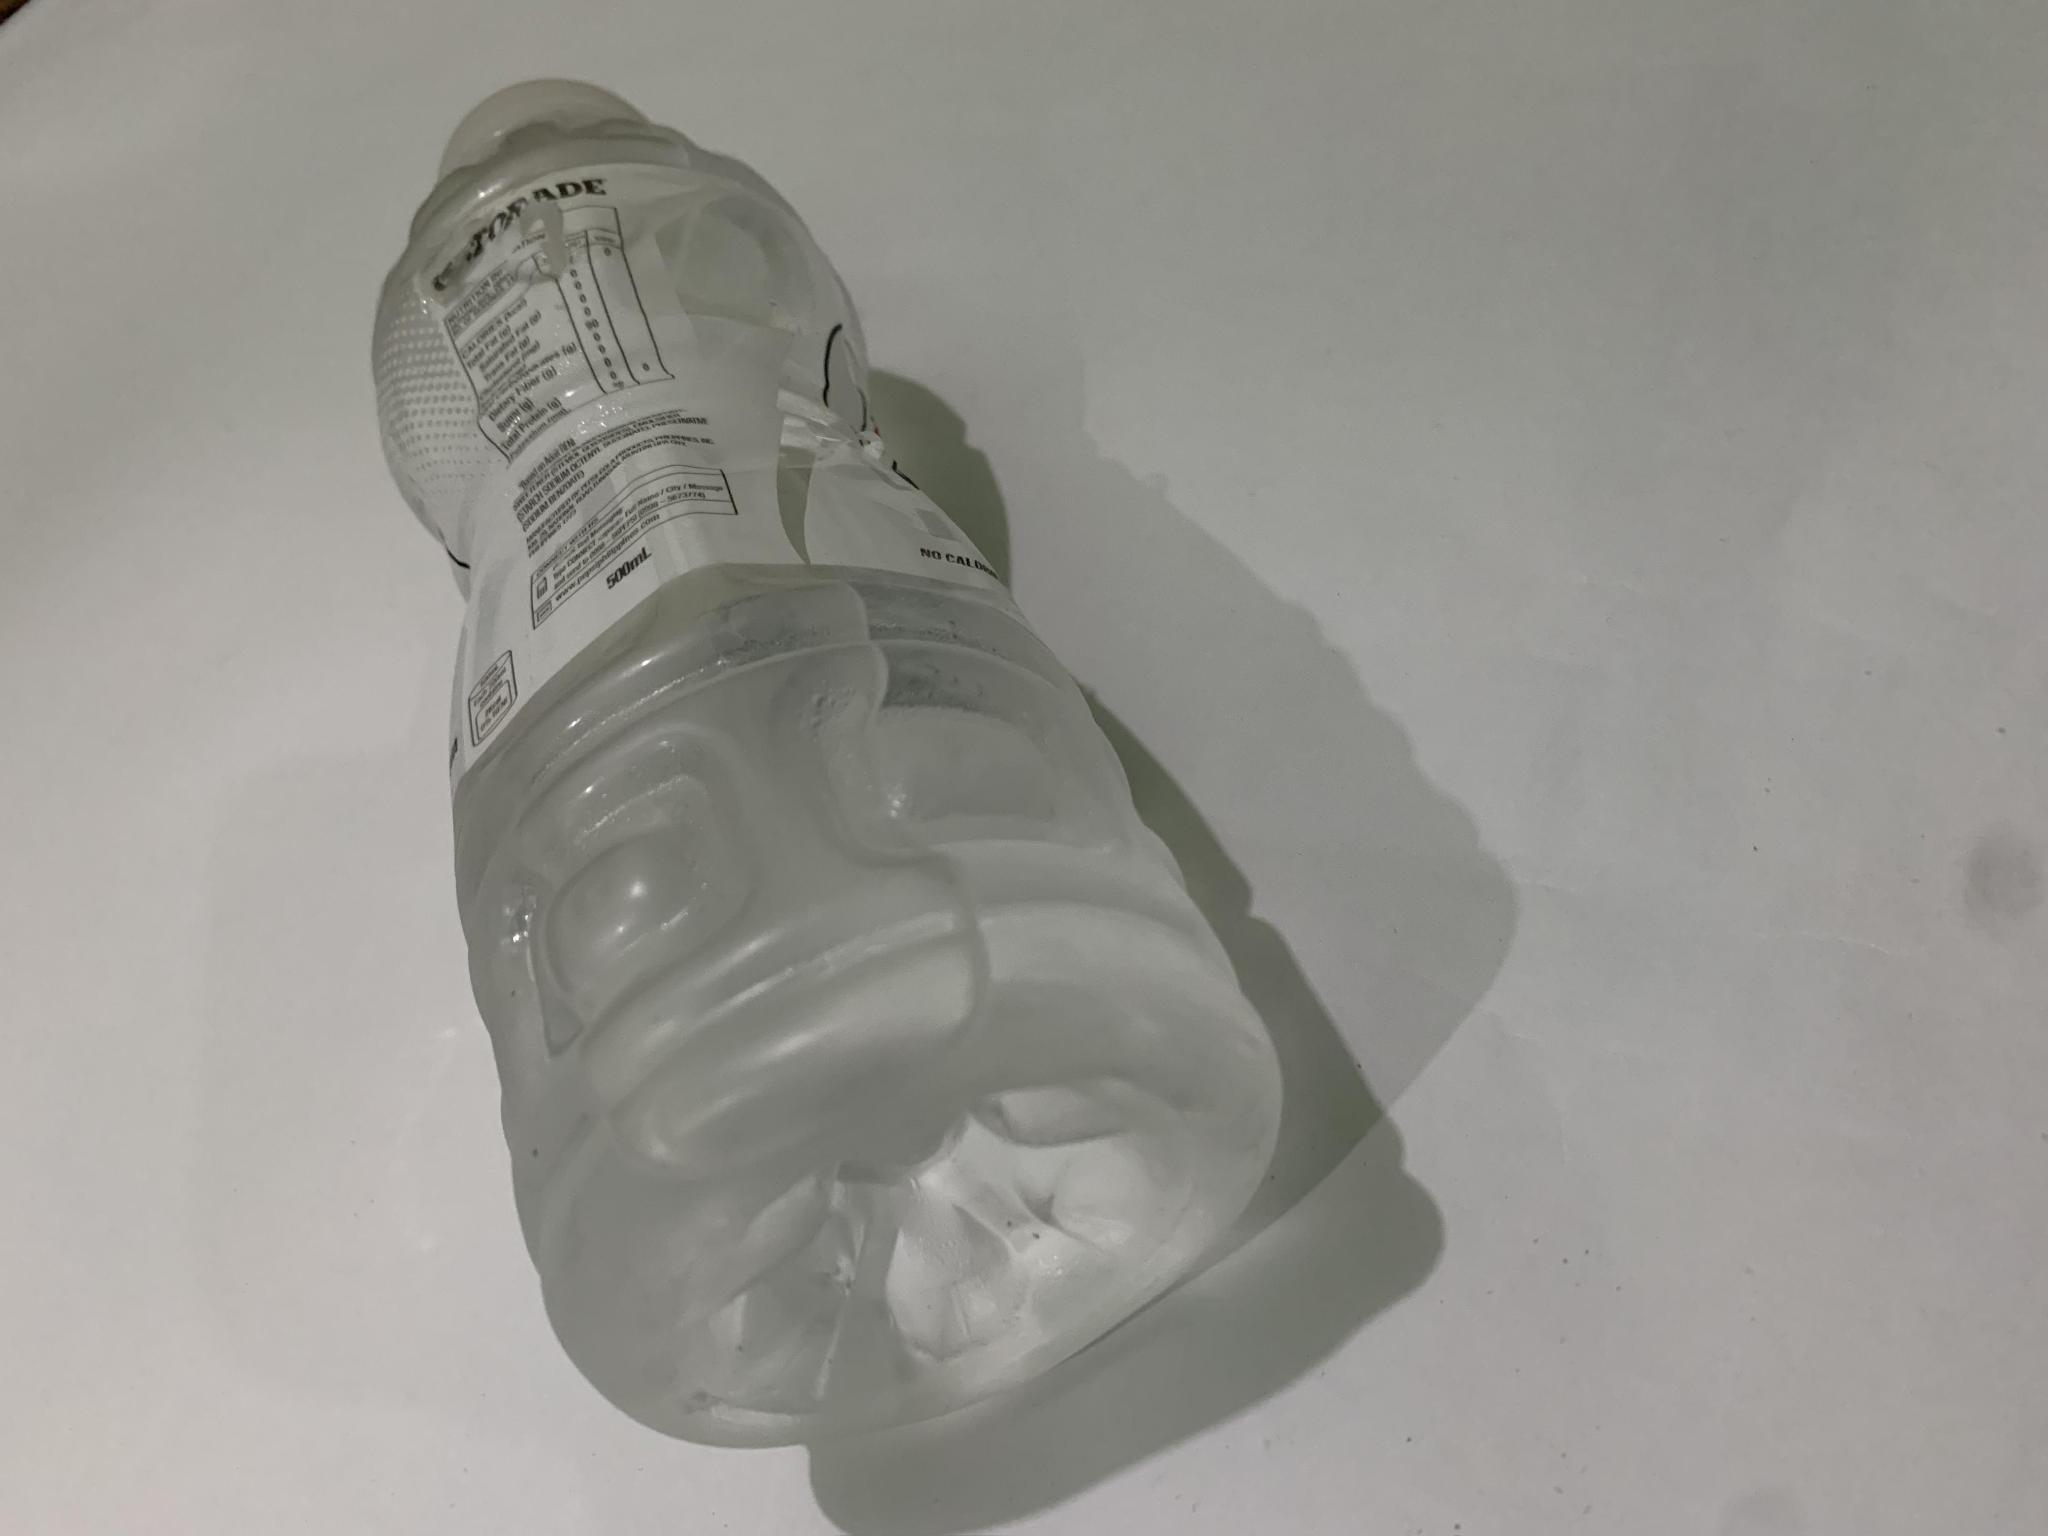bottle: (350, 48, 1310, 1478)
